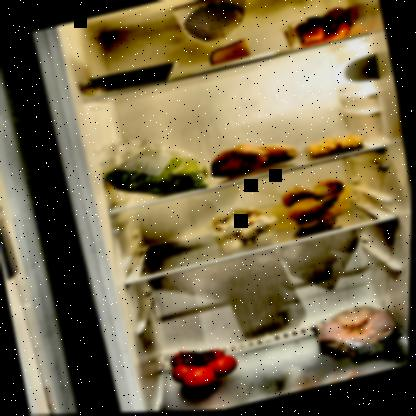cheese: (204, 37, 255, 70)
chicken: (310, 298, 409, 370)
mushrooms: (202, 200, 273, 260)
onion: (275, 175, 351, 230)
shrimp: (305, 132, 367, 162)
spinach: (95, 134, 214, 212)
strawberries: (279, 2, 363, 59)
sweet_potato: (205, 130, 304, 185)
tomato: (165, 336, 246, 397)
